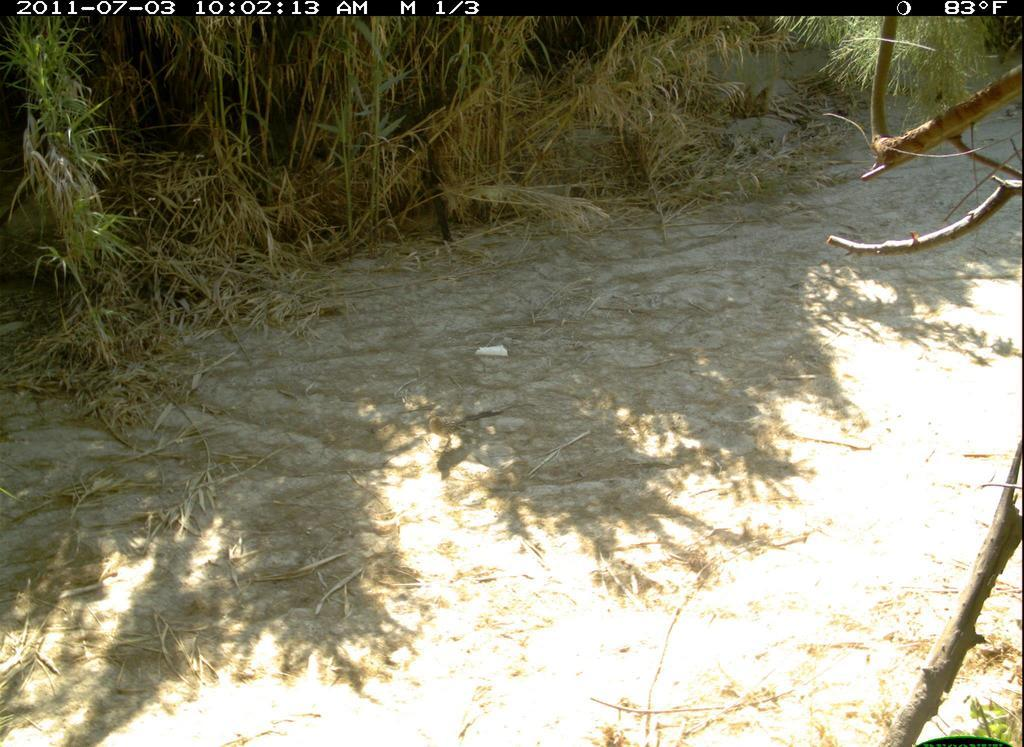bird: (426, 397, 525, 450)
